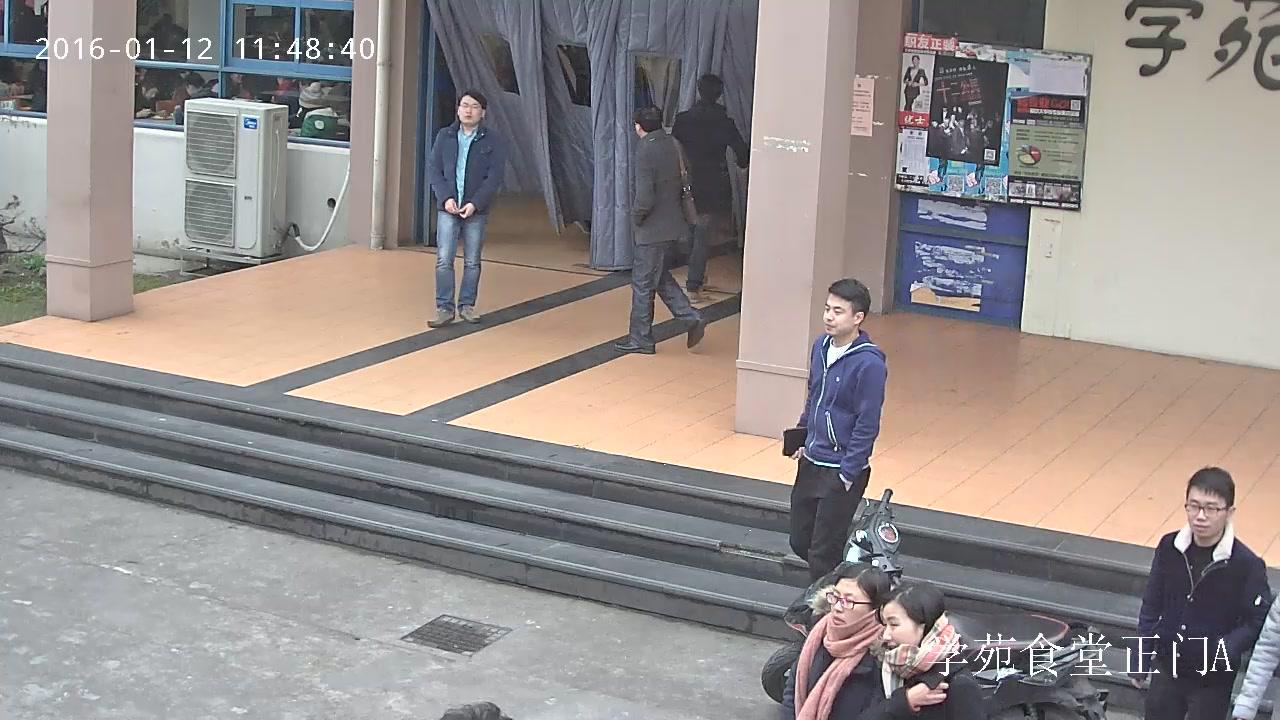person: (1128, 467, 1273, 720), (778, 279, 887, 586), (610, 103, 705, 353), (425, 88, 508, 328), (781, 562, 899, 720), (855, 578, 986, 720), (668, 73, 748, 304), (290, 82, 338, 137), (171, 73, 218, 124), (902, 55, 928, 112), (134, 77, 161, 118)
